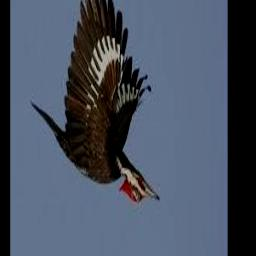Woodpecker: (31, 0, 159, 204)
